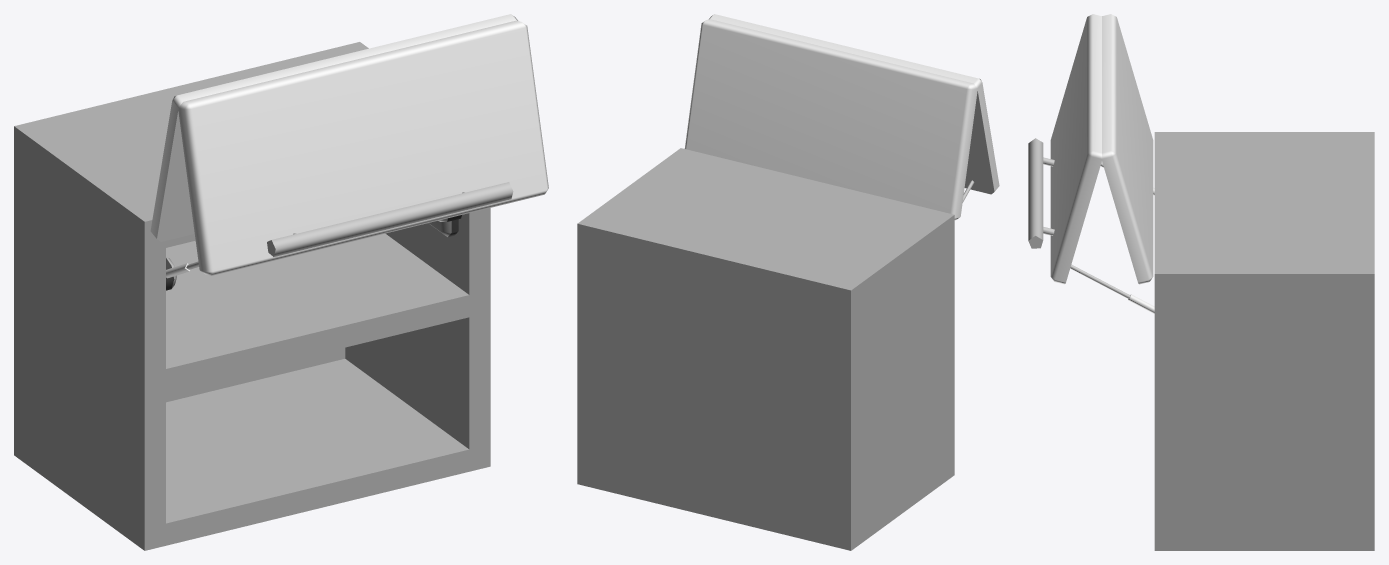
The model's file is kitchen_012.fbx.
3 renders of one model, left to right at view 1: azimuth 30°, elevation 25°; view 2: azimuth 150°, elevation 25°; view 3: azimuth 270°, elevation 25°, orthographic. The views are drawn at different scales.
Visible parts, largest first — view 1: kitchen_012; view 2: kitchen_012; view 3: kitchen_012.
Boxes of the visible parts, x1=… form: kitchen_012: x1=14, y1=14, x2=548, y2=550; kitchen_012: x1=577, y1=14, x2=999, y2=550; kitchen_012: x1=1028, y1=14, x2=1374, y2=550.
Bounding box in the file's own units: 94.84 × 97.73 × 124.
